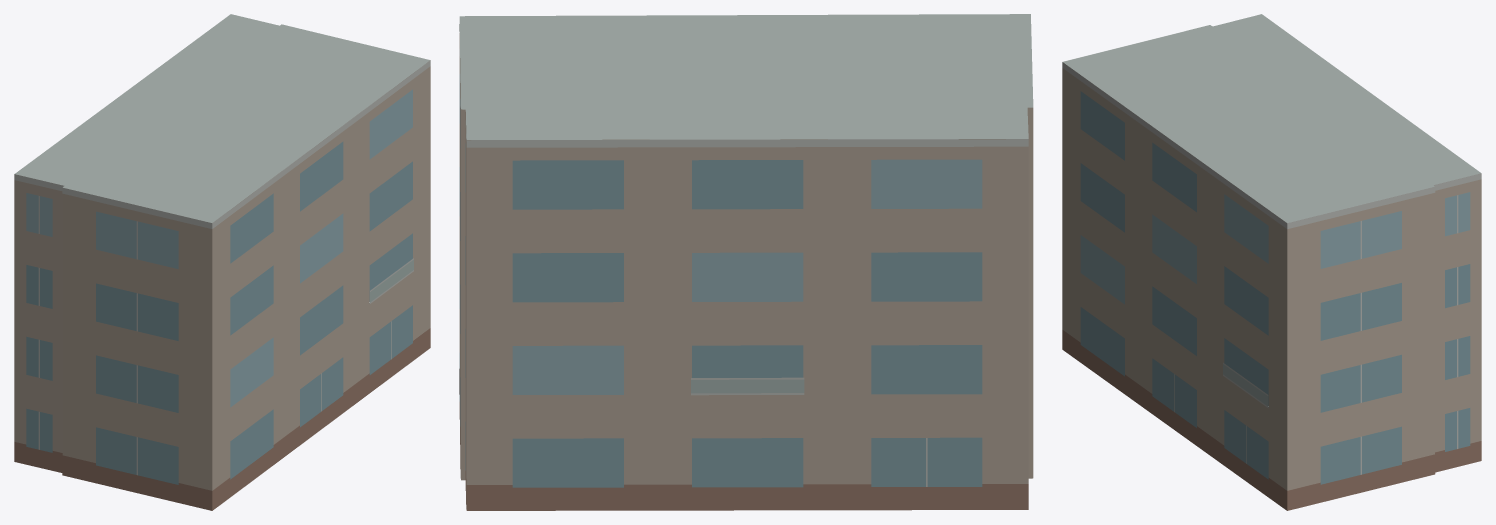
File: survey-upis-32986559.glb
3 views of the same model, side by side, from view 1: azimuth 30°, elevation 25°; view 2: azimuth 150°, elevation 25°; view 3: azimuth 270°, elevation 25° (orthographic). The views are drawn at different scales.
Visible parts, largest first — view 1: survey-upis-32986559.tmp; view 2: survey-upis-32986559.tmp; view 3: survey-upis-32986559.tmp.
Part boxes in pixels (bbox=[...]): survey-upis-32986559.tmp: bbox=[14, 14, 430, 510]; survey-upis-32986559.tmp: bbox=[459, 14, 1033, 510]; survey-upis-32986559.tmp: bbox=[1062, 14, 1481, 510].
Size of the model in its own units: 18.26 by 11.7 by 15.46.
